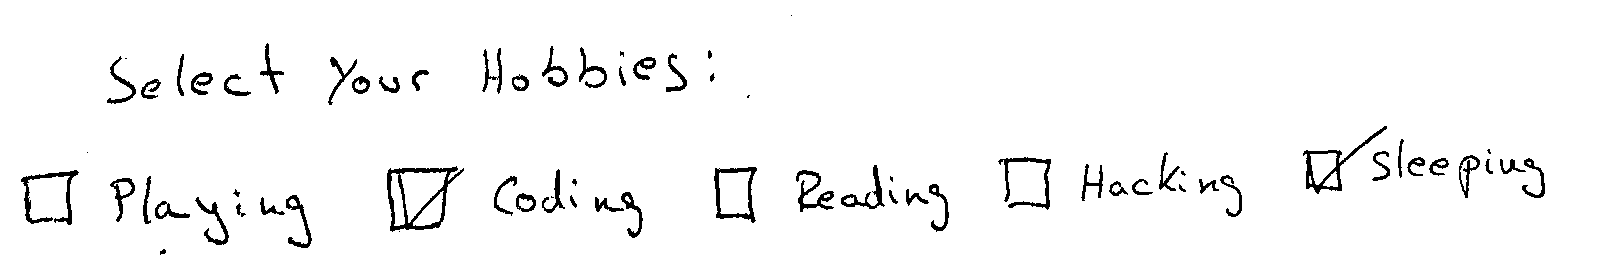Check Box: (14, 160, 316, 260), (1284, 122, 1549, 214), (378, 161, 653, 248), (700, 156, 957, 242), (990, 144, 1253, 228)
